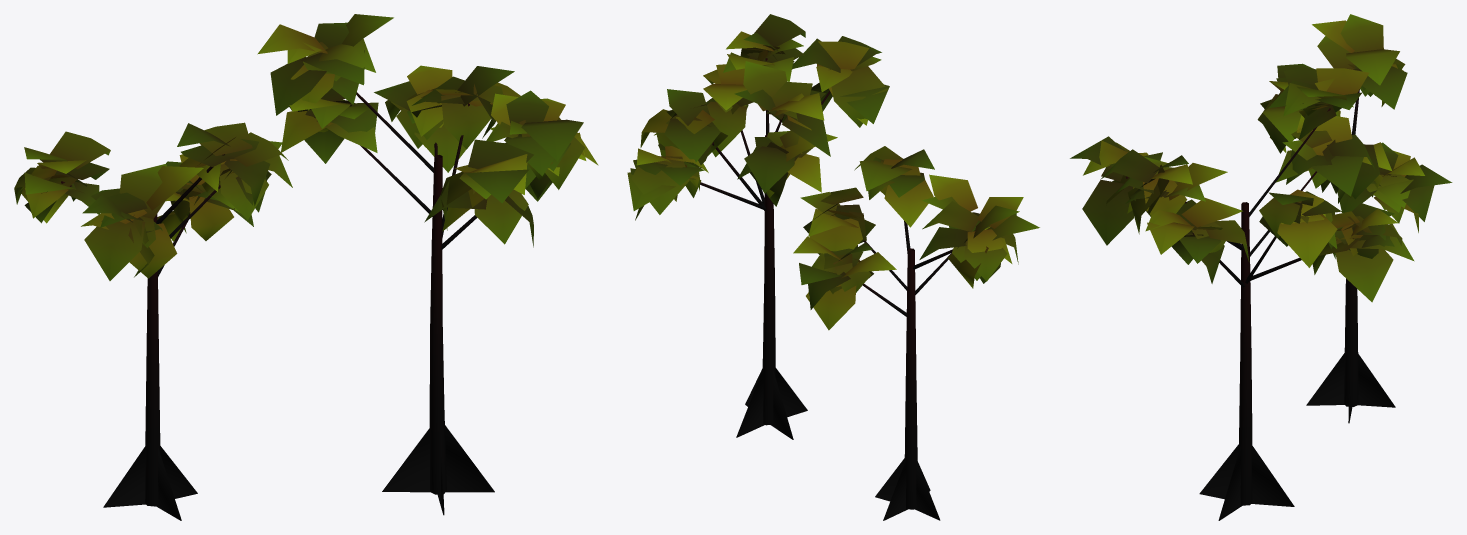
The model's file is patch_edge_far.glb.
The picture shows the model from 3 angles, left to right: view 1: azimuth 30°, elevation 25°; view 2: azimuth 150°, elevation 25°; view 3: azimuth 270°, elevation 25°; orthographic projection. The views are drawn at different scales.
Parts seen in each view (by area): view 1: patch_edge_far; view 2: patch_edge_far; view 3: patch_edge_far.
Part boxes in pixels (bbox=[...]): patch_edge_far: bbox=[14, 14, 598, 520]; patch_edge_far: bbox=[627, 14, 1039, 520]; patch_edge_far: bbox=[1070, 14, 1452, 520].
Bounding box in the file's own units: 13 × 11.68 × 10.09.
1 material, 1 textured.
